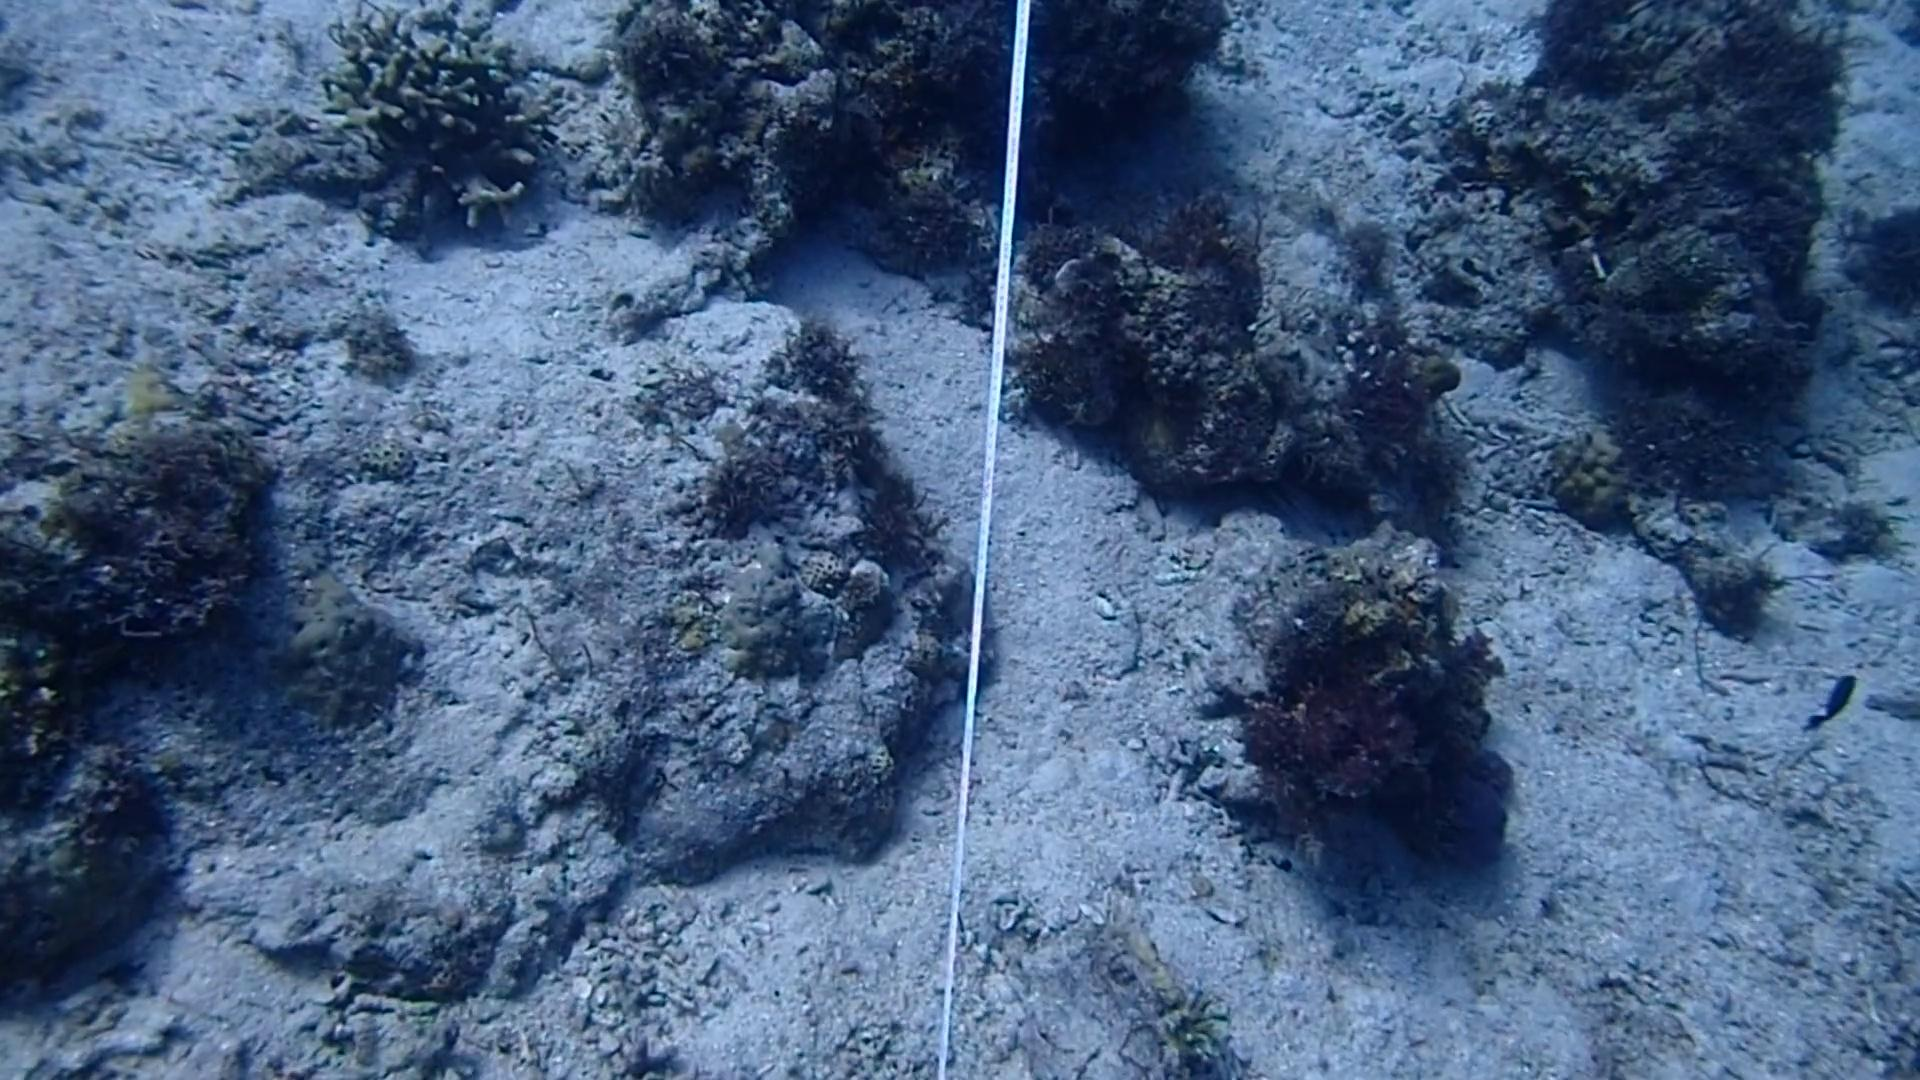Dark Fish: (1793, 661, 1869, 741)
